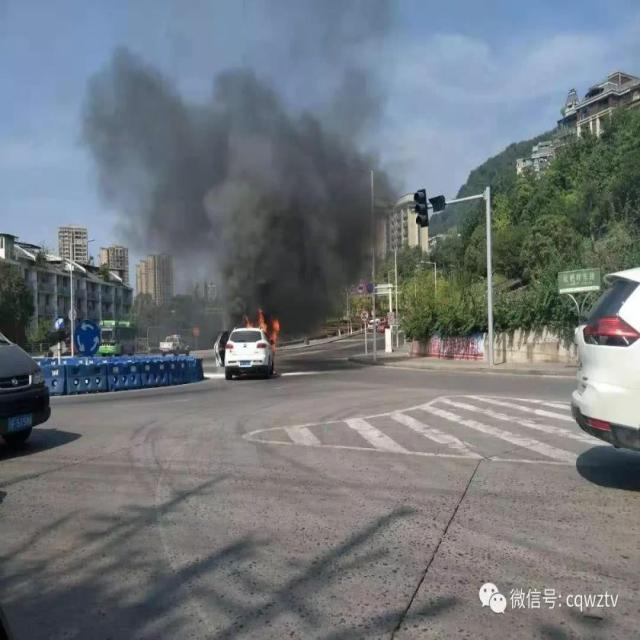Fire: (245, 306, 281, 354)
Smoke: (70, 40, 406, 313)
